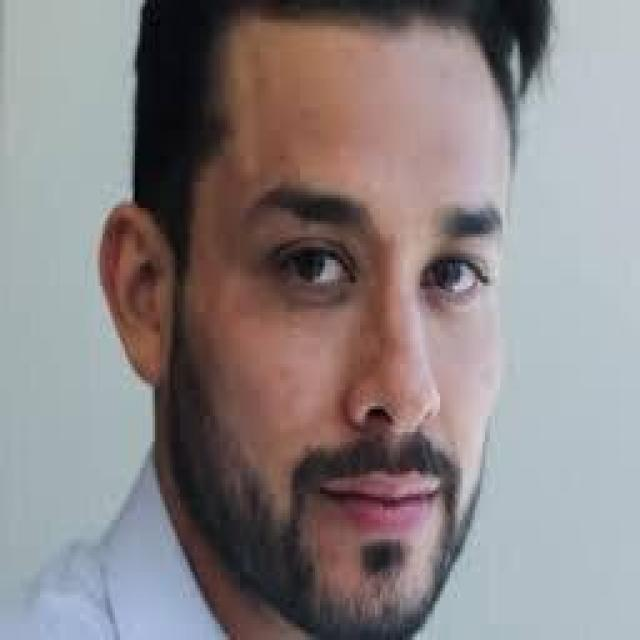person: (50, 0, 605, 624)
